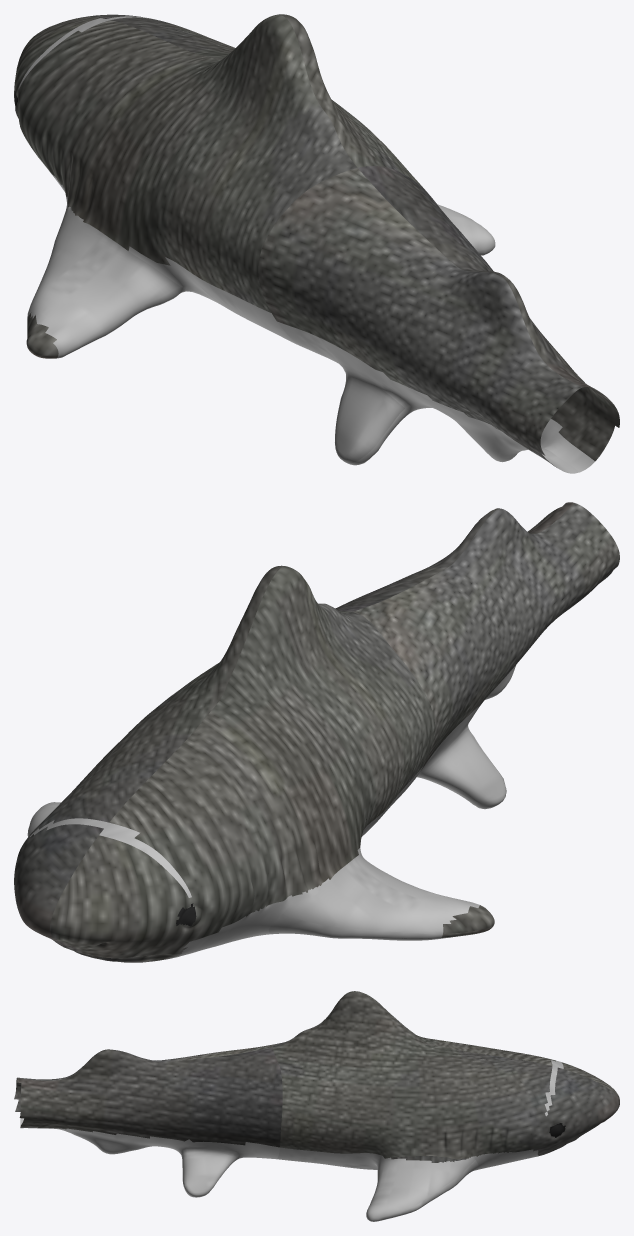
The model's file is cuerpot.obj.
3 renders of one model, top to bottom at view 1: azimuth 30°, elevation 25°; view 2: azimuth 150°, elevation 25°; view 3: azimuth 270°, elevation 25°, orthographic. The views are drawn at different scales.
Visible parts, largest first — view 1: polySurface2 tiburon:_Tiger_Shark_v1; view 2: polySurface2 tiburon:_Tiger_Shark_v1; view 3: polySurface2 tiburon:_Tiger_Shark_v1.
Part boxes in pixels (x1=…): polySurface2 tiburon:_Tiger_Shark_v1: x1=14, y1=14, x2=619, y2=473; polySurface2 tiburon:_Tiger_Shark_v1: x1=14, y1=502, x2=619, y2=962; polySurface2 tiburon:_Tiger_Shark_v1: x1=14, y1=991, x2=619, y2=1221.
Size of the model in its own units: 7.05 by 4.77 by 14.2.
3 materials, 3 textured.
